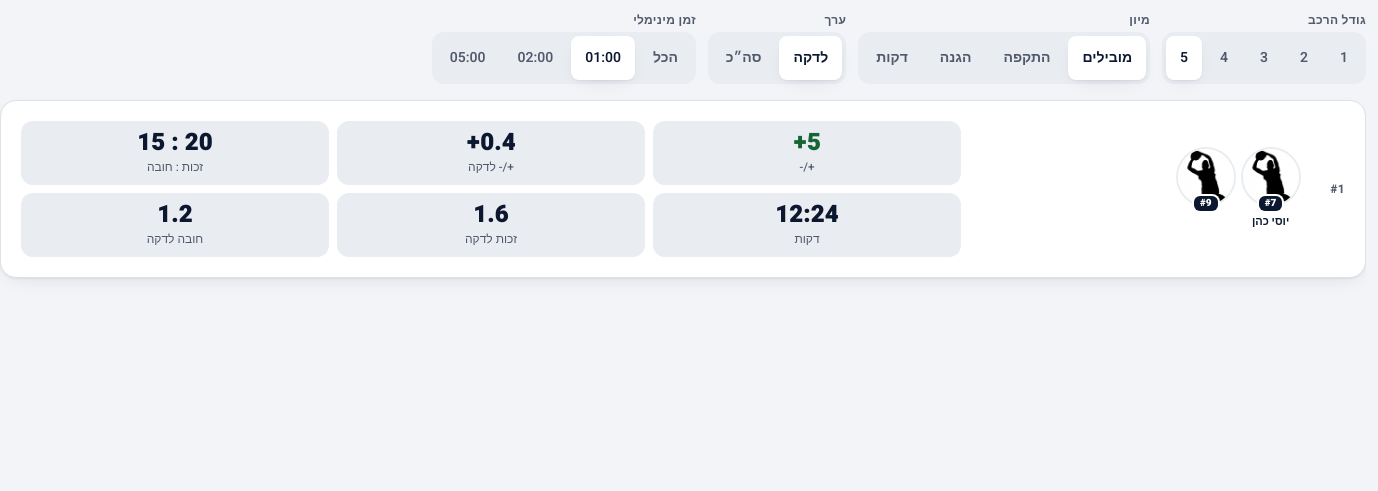
Test: LineupStats › hides lineups under 01:00 by default; הכל shows them with no extra fetch
expect the number of list items is 1: met, box [0,100,1366,278]
Step 1. Click the button "הכל" → (665, 58), box [639,36,692,80]
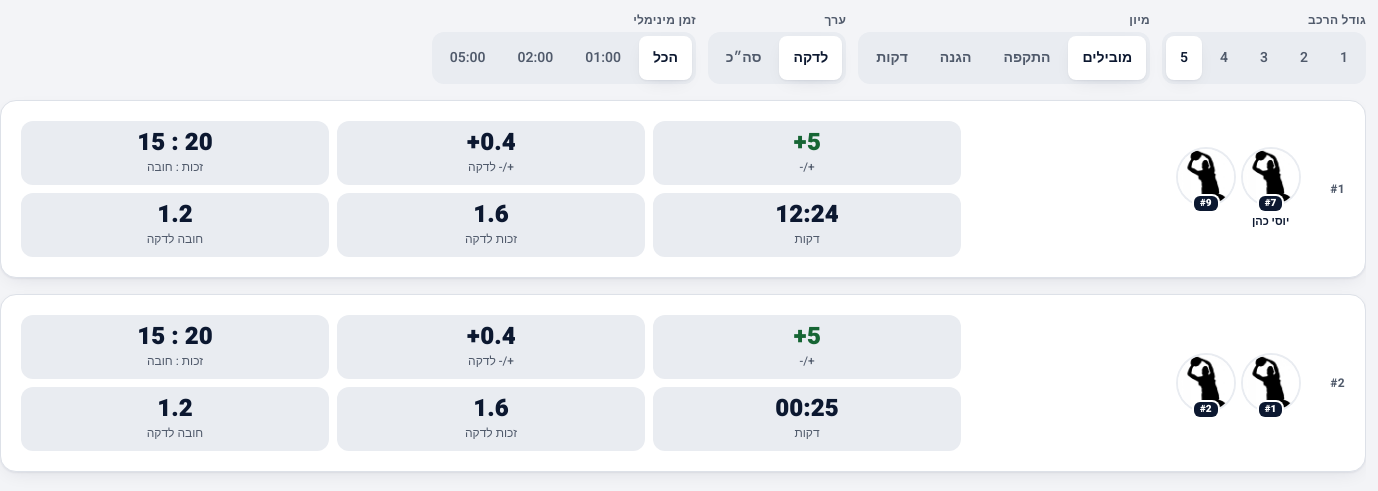
expect the number of list items is 2: met, box [0,100,1366,278]; [0,294,1366,472]
